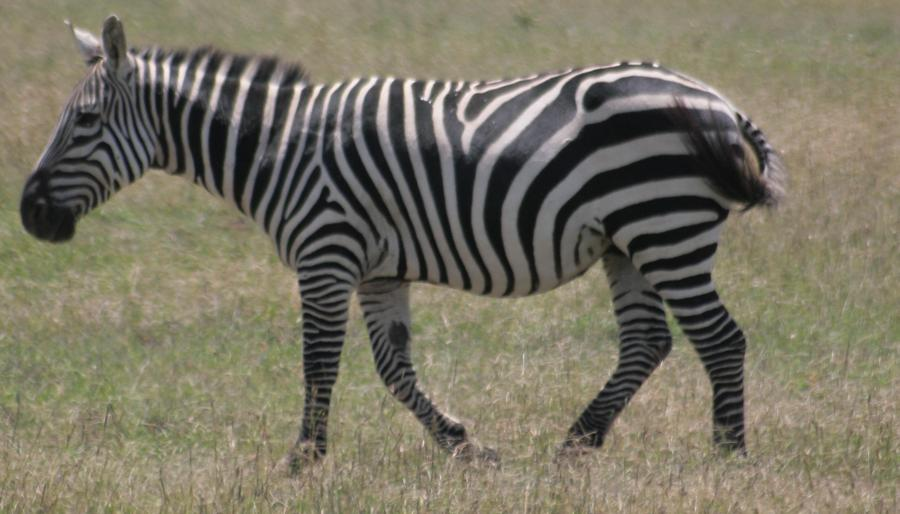zebra_plains: (247, 60, 748, 297)
